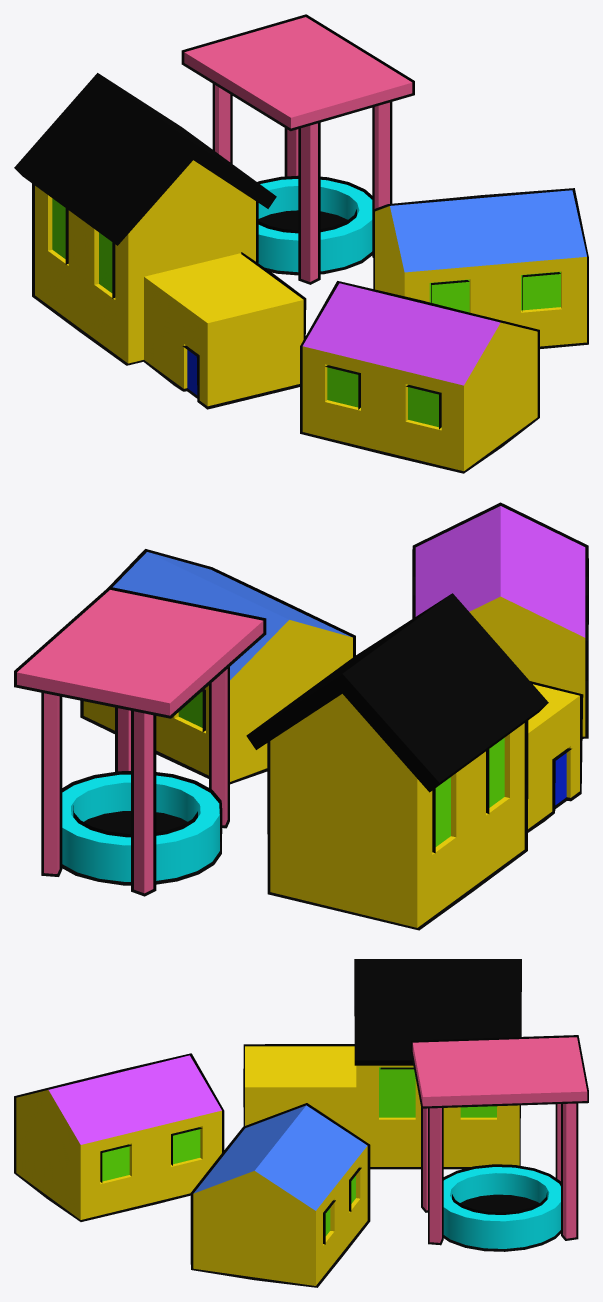
The model's file is SbS_Symbol_Town.fbx.
3 views of the same model, one above another, from view 1: azimuth 30°, elevation 25°; view 2: azimuth 150°, elevation 25°; view 3: azimuth 270°, elevation 25° (orthographic). The views are drawn at different scales.
Parts seen in each view (by area): view 1: Symbol_Town, Edge; view 2: Symbol_Town, Edge; view 3: Symbol_Town, Edge.
Boxes of the visible parts, x1,y1,x2,y2 form: Symbol_Town: (35,17,586,471); Edge: (14,14,588,473); Symbol_Town: (17,506,585,927); Edge: (14,502,588,930); Symbol_Town: (16,1037,587,1285); Edge: (14,959,588,1287).
Size of the model in its own units: 671 by 313 by 891.
